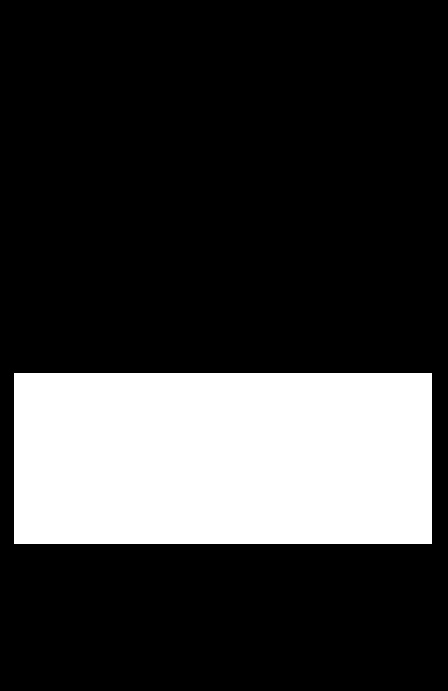table: (14, 373, 431, 543)
